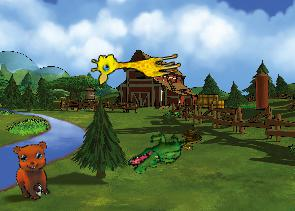bear: (5, 136, 64, 204)
crocodile: (125, 119, 191, 187)
giraffe: (89, 42, 182, 86)
